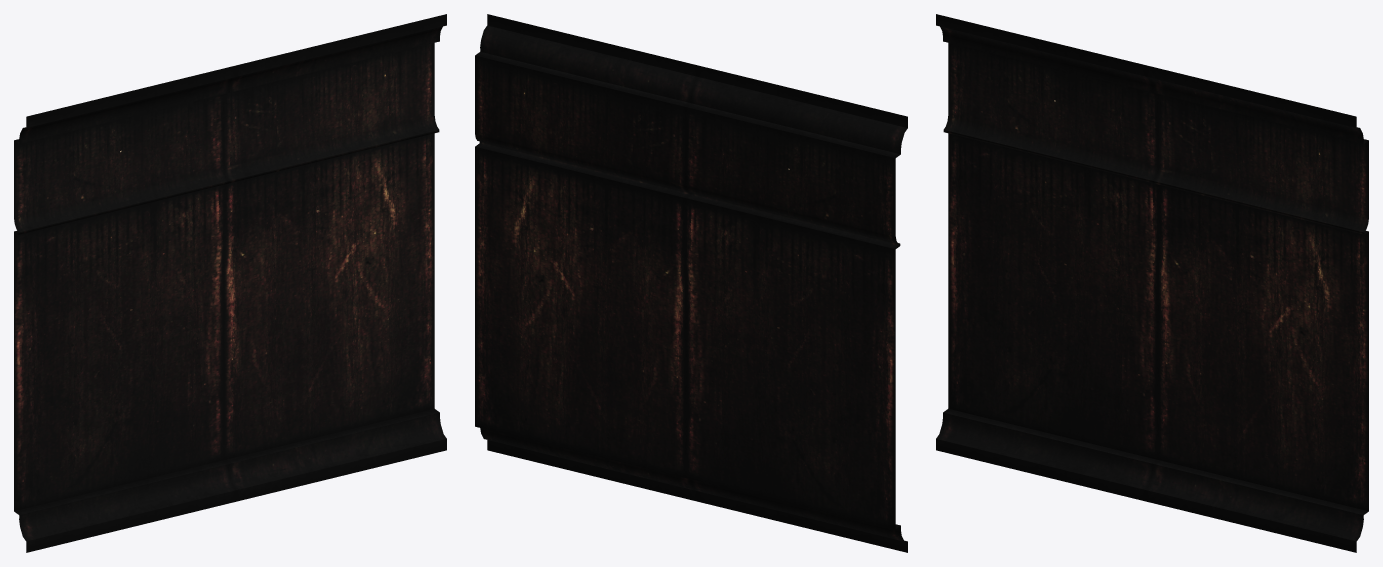
Rendered from default_extension_rotten.dae.
3 views of the same model, side by side, from view 1: azimuth 30°, elevation 25°; view 2: azimuth 150°, elevation 25°; view 3: azimuth 330°, elevation 25° (orthographic).
Visible parts, largest first — view 1: mansionbase_wall_extension; view 2: mansionbase_wall_extension; view 3: mansionbase_wall_extension.
Boxes of the visible parts, bbox=[...] form: mansionbase_wall_extension: bbox=[14, 14, 446, 552]; mansionbase_wall_extension: bbox=[475, 14, 907, 552]; mansionbase_wall_extension: bbox=[936, 14, 1368, 552].
Size of the model in its own units: 4 by 3.96 by 0.2011.
